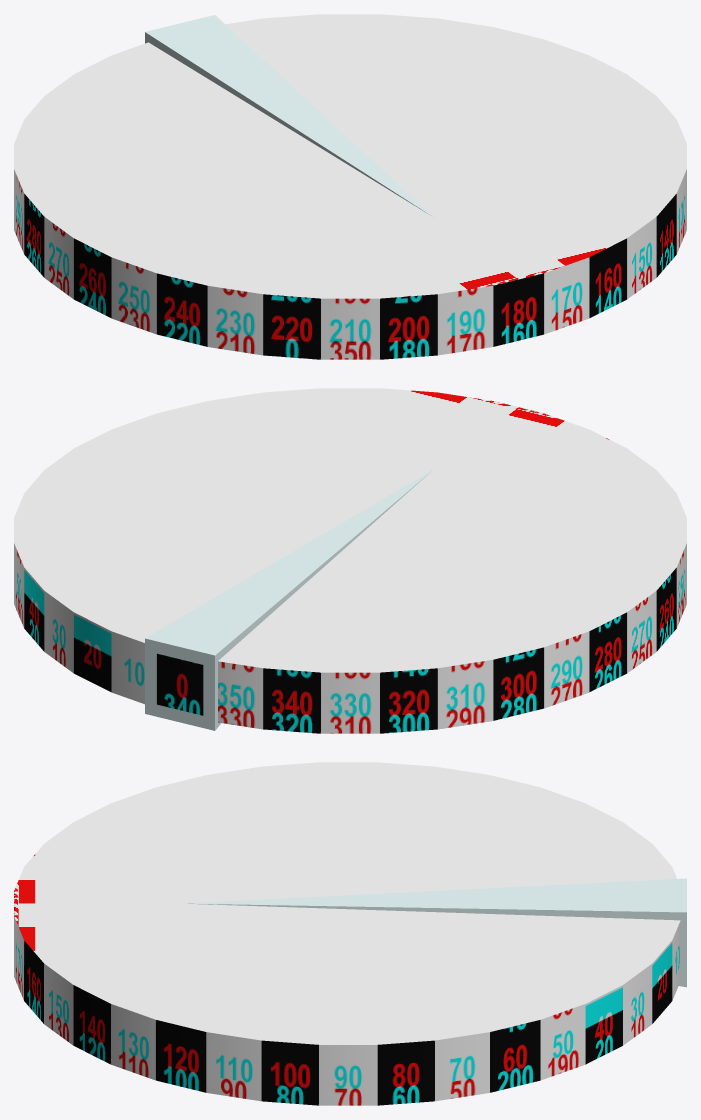
The model's file is compass.fbx.
3 renders of one model, top to bottom at view 1: azimuth 30°, elevation 25°; view 2: azimuth 150°, elevation 25°; view 3: azimuth 270°, elevation 25°, orthographic.
Parts seen in each view (by area): view 1: plate, pointer; view 2: plate, pointer; view 3: plate, pointer.
Part boxes in pixels (x1,y1,x2,y2): plate: [14, 14, 686, 359]; pointer: [145, 15, 434, 217]; plate: [14, 388, 686, 733]; pointer: [145, 469, 433, 730]; plate: [14, 762, 680, 1105]; pointer: [182, 878, 686, 987].
Size of the model in its own units: 99.62 by 12.32 by 100.
